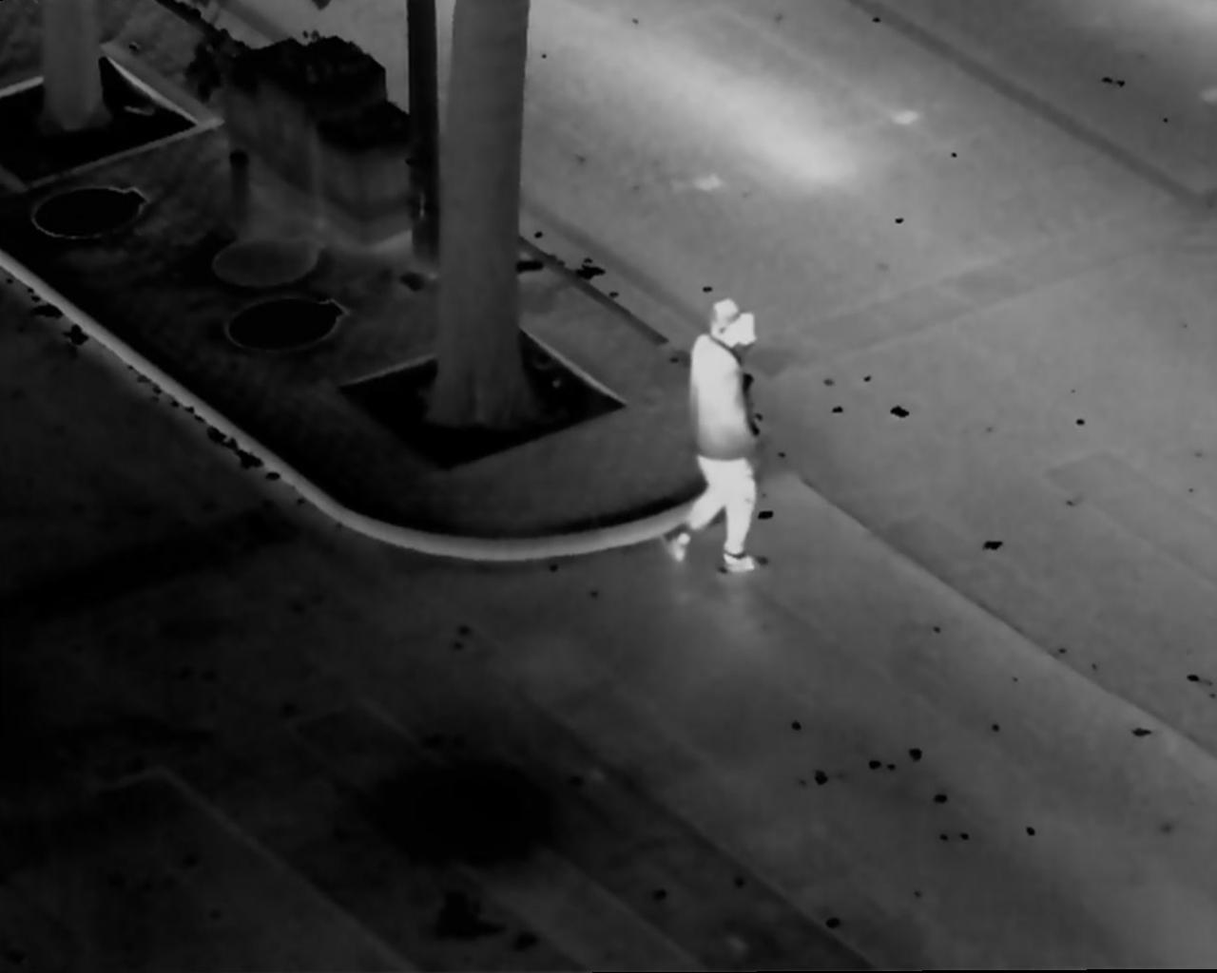person: (659, 296, 782, 580)
